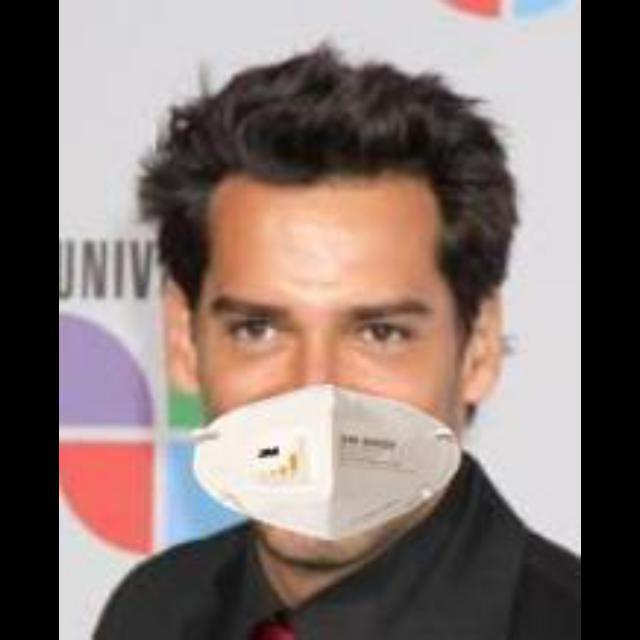suspicion: (142, 64, 503, 536)
